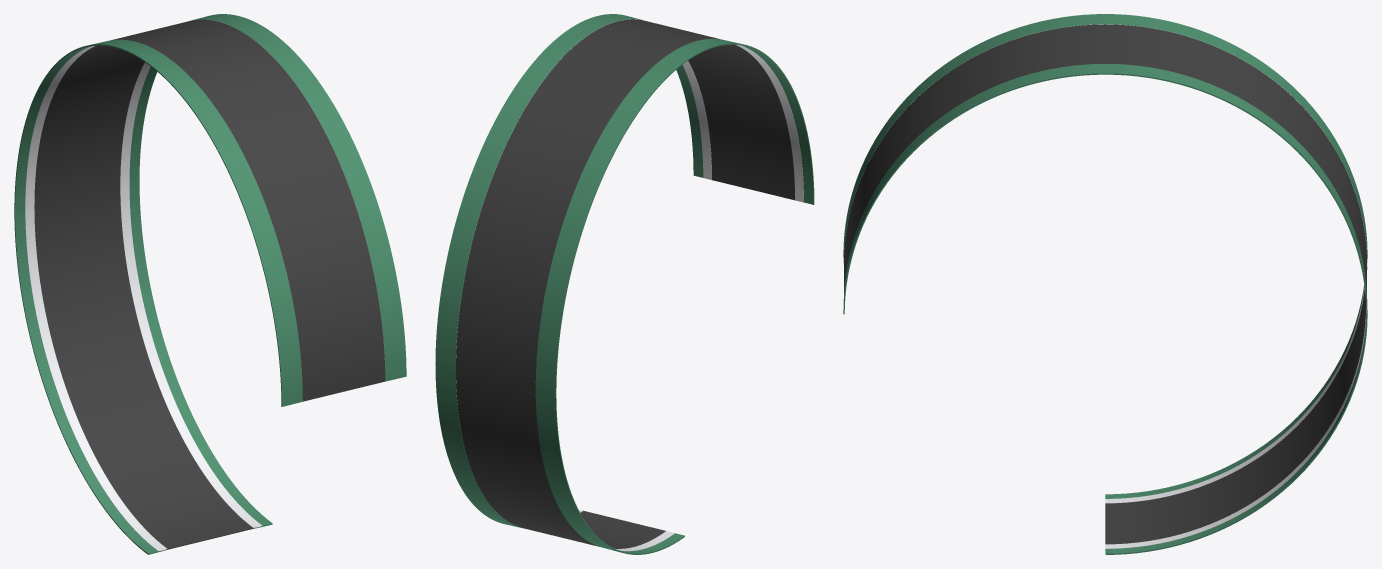
The picture shows the model from 3 angles, left to right: view 1: azimuth 30°, elevation 25°; view 2: azimuth 150°, elevation 25°; view 3: azimuth 270°, elevation 25°; orthographic projection. The views are drawn at different scales.
Parts seen in each view (by area): view 1: roadStraight; view 2: roadStraight; view 3: roadStraight.
Boxes of the visible parts, bbox=[...] form: roadStraight: bbox=[14, 14, 406, 554]; roadStraight: bbox=[435, 14, 814, 554]; roadStraight: bbox=[843, 14, 1367, 554].
Size of the model in its own units: 1000 by 3776 by 3725.
